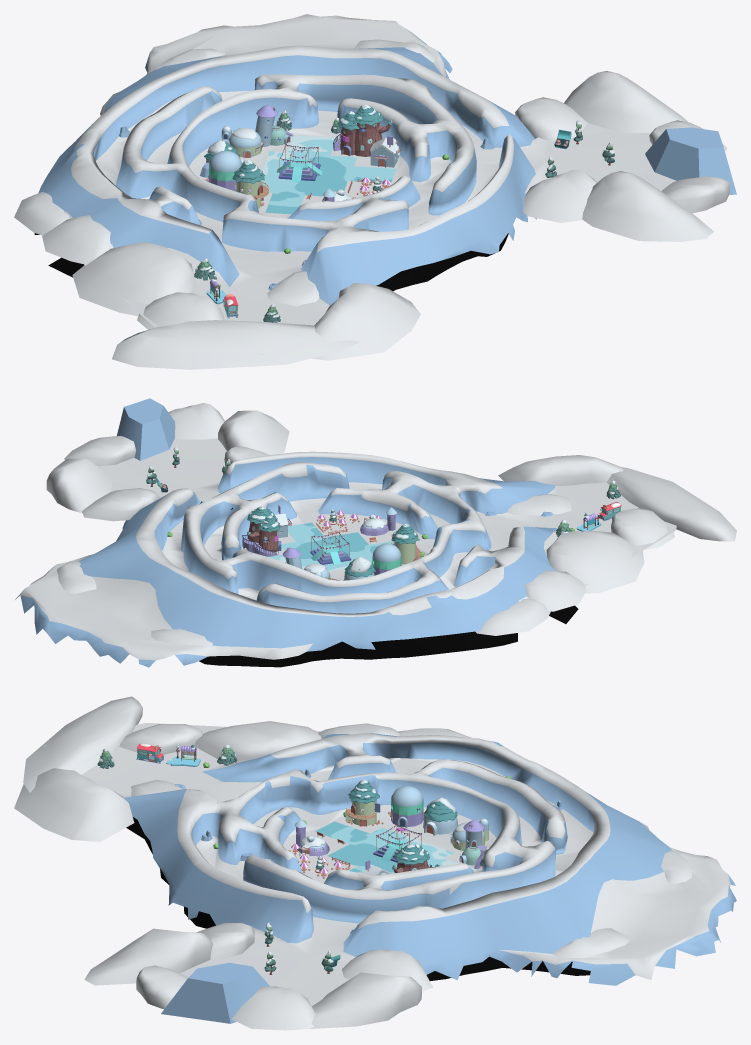
The model's file is Individual_WhisperingHollow_03.fbx.
3 renders of one model, top to bottom at view 1: azimuth 30°, elevation 25°; view 2: azimuth 150°, elevation 25°; view 3: azimuth 270°, elevation 25°, orthographic. The views are drawn at different scales.
Visible parts, largest first — view 1: polySurface1, pasted__SnowPatch13, pasted__SnowPatch12, pasted__SnowPatch16, pasted__SnowPatch14, pasted__SnowPatch8, pasted__Object_IceRock3, pasted__SnowPatch9, pasted__SnowPatch3, pasted__SnowPatch11, pasted__SnowPatch10, polySurface119 (+11 smaller); view 2: polySurface1, polySurface3, pasted__SnowPatch12, pasted__SnowPatch13, pasted__SnowPatch14, pasted__SnowPatch8, pasted__Object_IceRock3, pasted__SnowPatch16, pasted__SnowPatch3, pasted__SnowPatch11, pasted__SnowPatch10, pasted__SnowPatch4 (+11 smaller); view 3: polySurface1, pasted__SnowPatch14, pasted__SnowPatch13, pasted__SnowPatch8, pasted__SnowPatch16, pasted__Object_IceRock3, pasted__SnowPatch12, pasted__SnowPatch15, pasted__SnowPatch10, pasted__SnowPatch11, polySurface3, pasted__SnowPatch17 (+11 smaller).
Part boxes in pixels (left/top/right/bottom): polySurface1: left=38, top=14, right=676, bottom=354; pasted__SnowPatch13: left=112, top=320, right=359, bottom=369; pasted__SnowPatch12: left=72, top=242, right=195, bottom=316; pasted__SnowPatch16: left=582, top=171, right=713, bottom=241; pasted__SnowPatch14: left=312, top=283, right=420, bottom=360; pasted__SnowPatch8: left=564, top=71, right=688, bottom=133; pasted__Object_IceRock3: left=645, top=127, right=736, bottom=194; pasted__SnowPatch9: left=523, top=170, right=597, bottom=222; pasted__SnowPatch3: left=42, top=215, right=113, bottom=263; pasted__SnowPatch11: left=137, top=292, right=223, bottom=329; pasted__SnowPatch10: left=515, top=97, right=587, bottom=140; polySurface119: left=333, top=104, right=392, bottom=156; polySurface1: left=15, top=438, right=677, bottom=667; polySurface3: left=199, top=508, right=578, bottom=667; pasted__SnowPatch12: left=546, top=530, right=644, bottom=593; pasted__SnowPatch13: left=607, top=467, right=736, bottom=541; pasted__SnowPatch14: left=498, top=455, right=624, bottom=485; pasted__SnowPatch8: left=46, top=458, right=113, bottom=513; pasted__Object_IceRock3: left=117, top=398, right=175, bottom=460; pasted__SnowPatch16: left=218, top=410, right=289, bottom=454; pasted__SnowPatch3: left=525, top=570, right=585, bottom=611; pasted__SnowPatch11: left=611, top=508, right=675, bottom=549; pasted__SnowPatch10: left=82, top=488, right=159, bottom=521; pasted__SnowPatch4: left=475, top=598, right=550, bottom=635; polySurface1: left=44, top=723, right=736, bottom=1005; pasted__SnowPatch14: left=14, top=768, right=134, bottom=841; pasted__SnowPatch13: left=23, top=696, right=142, bottom=792; pasted__SnowPatch8: left=309, top=972, right=422, bottom=1028; pasted__SnowPatch16: left=84, top=928, right=212, bottom=985; pasted__Object_IceRock3: left=161, top=962, right=270, bottom=1023; pasted__SnowPatch12: left=194, top=721, right=321, bottom=761; pasted__SnowPatch15: left=231, top=986, right=315, bottom=1030; pasted__SnowPatch10: left=342, top=949, right=432, bottom=991; pasted__SnowPatch11: left=119, top=724, right=202, bottom=754; polySurface3: left=126, top=817, right=590, bottom=980; pasted__SnowPatch17: left=136, top=965, right=188, bottom=1009.
Bounding box in the file's own units: 15353 × 1536 × 14381.
